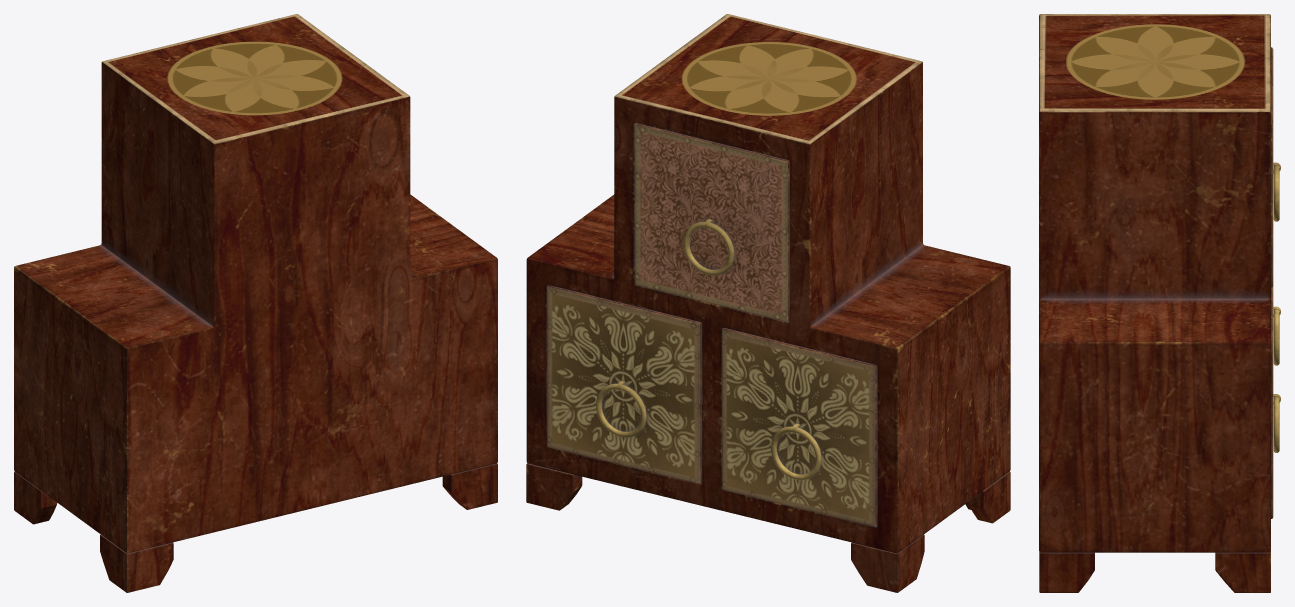
The model's file is jewelry_box.glb.
3 renders of one model, left to right at view 1: azimuth 30°, elevation 25°; view 2: azimuth 150°, elevation 25°; view 3: azimuth 270°, elevation 25°, orthographic. The views are drawn at different scales.
Visible parts, largest first — view 1: defaultobject; view 2: defaultobject; view 3: defaultobject.
Part boxes in pixels (box(x1,y1,x2,y2)): defaultobject: box(14, 14, 497, 592); defaultobject: box(526, 14, 1010, 592); defaultobject: box(1039, 14, 1280, 592).
Size of the model in its own units: 0.3201 by 0.3523 by 0.1763.
1 material, 1 textured.
